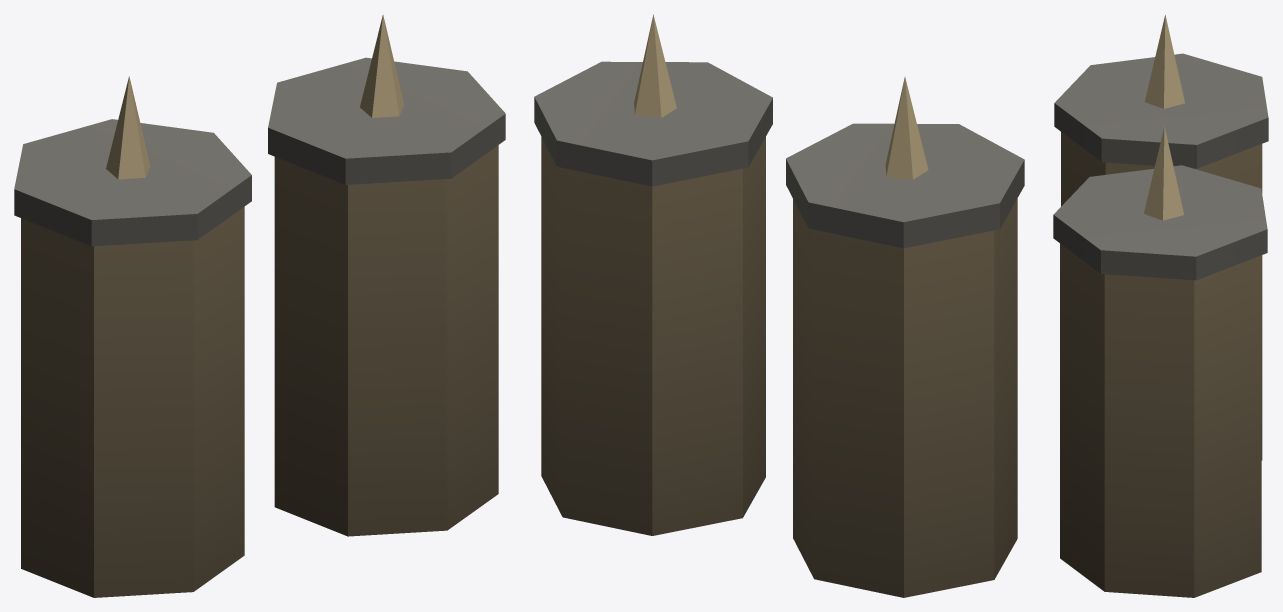
File: ph_item_grave_candle.glb
The picture shows the model from 3 angles, left to right: view 1: azimuth 30°, elevation 25°; view 2: azimuth 150°, elevation 25°; view 3: azimuth 270°, elevation 25°; orthographic projection. The views are drawn at different scales.
Parts seen in each view (by area): view 1: ph_item_grave_candle; view 2: ph_item_grave_candle; view 3: ph_item_grave_candle.
Part boxes in pixels (x1,y1,x2,y2): ph_item_grave_candle: (14, 14, 505, 597); ph_item_grave_candle: (534, 14, 1024, 597); ph_item_grave_candle: (1053, 15, 1268, 597).
Size of the model in its own units: 0.191 by 0.1885 by 0.0854.
